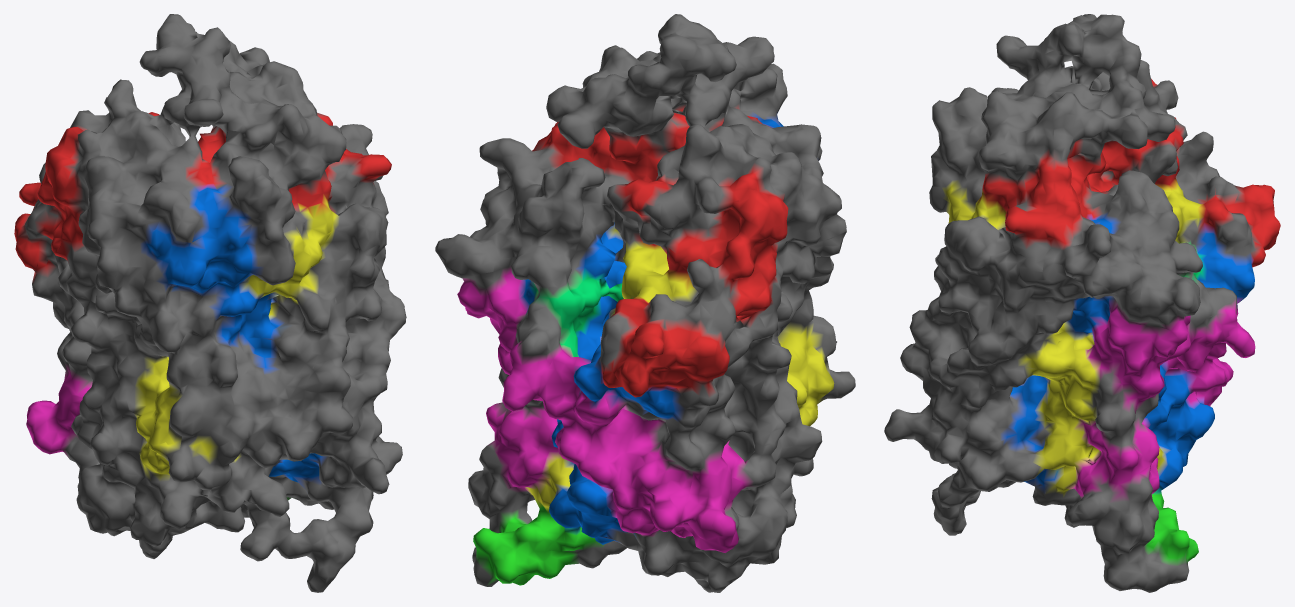
The model's file is serotonin-transporter-lite.glb.
3 views of the same model, side by side, from view 1: azimuth 30°, elevation 25°; view 2: azimuth 150°, elevation 25°; view 3: azimuth 270°, elevation 25° (orthographic). The views are drawn at different scales.
Parts seen in each view (by area): view 1: Object_56; view 2: Object_56; view 3: Object_56.
Boxes of the visible parts, left/top/right/bottom form: Object_56: left=14, top=14, right=406, bottom=592; Object_56: left=435, top=14, right=855, bottom=592; Object_56: left=884, top=14, right=1280, bottom=592.
Bounding box in the file's own units: 51.55 × 85.08 × 60.45.
